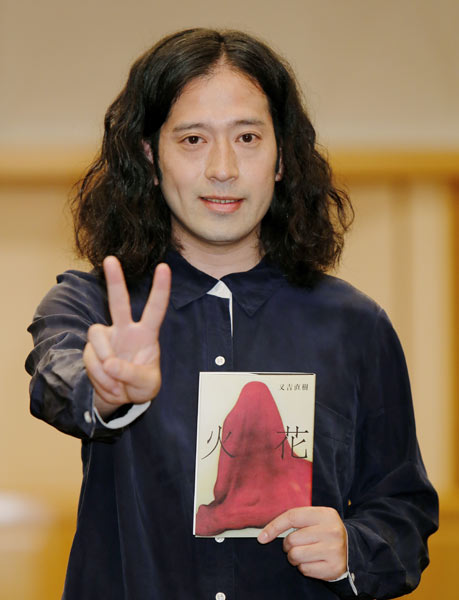face: (142, 60, 286, 244)
hand: (82, 257, 171, 405), (257, 504, 349, 582)
